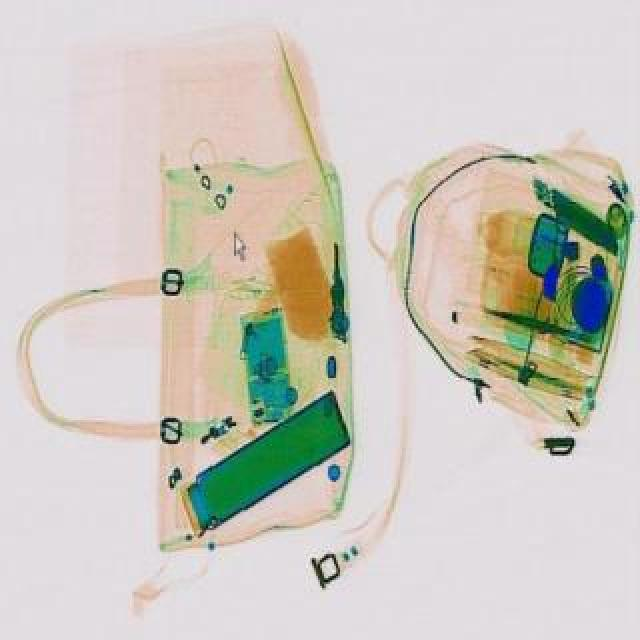knife: (484, 302, 592, 342)
